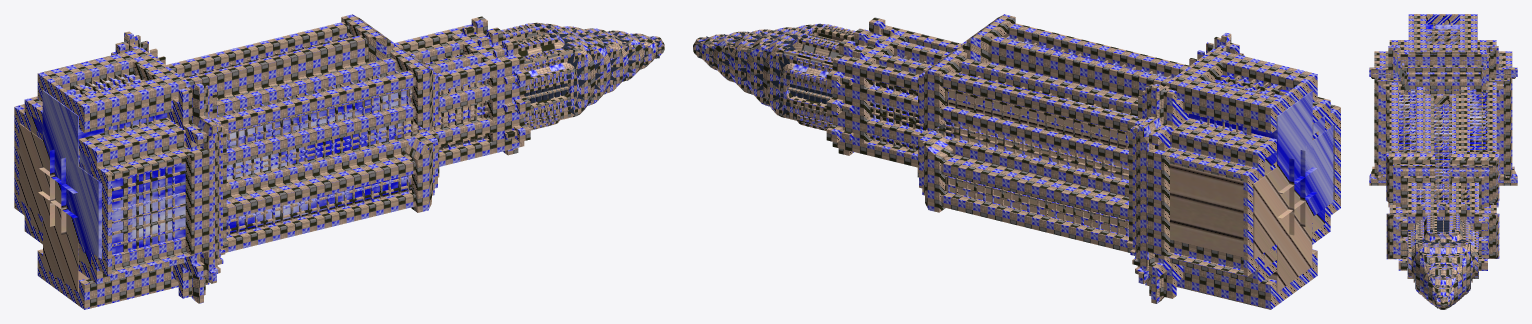
The picture shows the model from 3 angles, left to right: view 1: azimuth 30°, elevation 25°; view 2: azimuth 150°, elevation 25°; view 3: azimuth 270°, elevation 25°; orthographic projection. The views are drawn at different scales.
Parts seen in each view (by area): view 1: CHRYSLER_; view 2: CHRYSLER_; view 3: CHRYSLER_.
Part boxes in pixels (bbox=[...]): CHRYSLER_: bbox=[14, 14, 664, 309]; CHRYSLER_: bbox=[693, 14, 1340, 309]; CHRYSLER_: bbox=[1369, 14, 1517, 309].
Size of the model in its own units: 1 by 0.3394 by 0.2856.
Materials: 7 (5 with a texture image).
